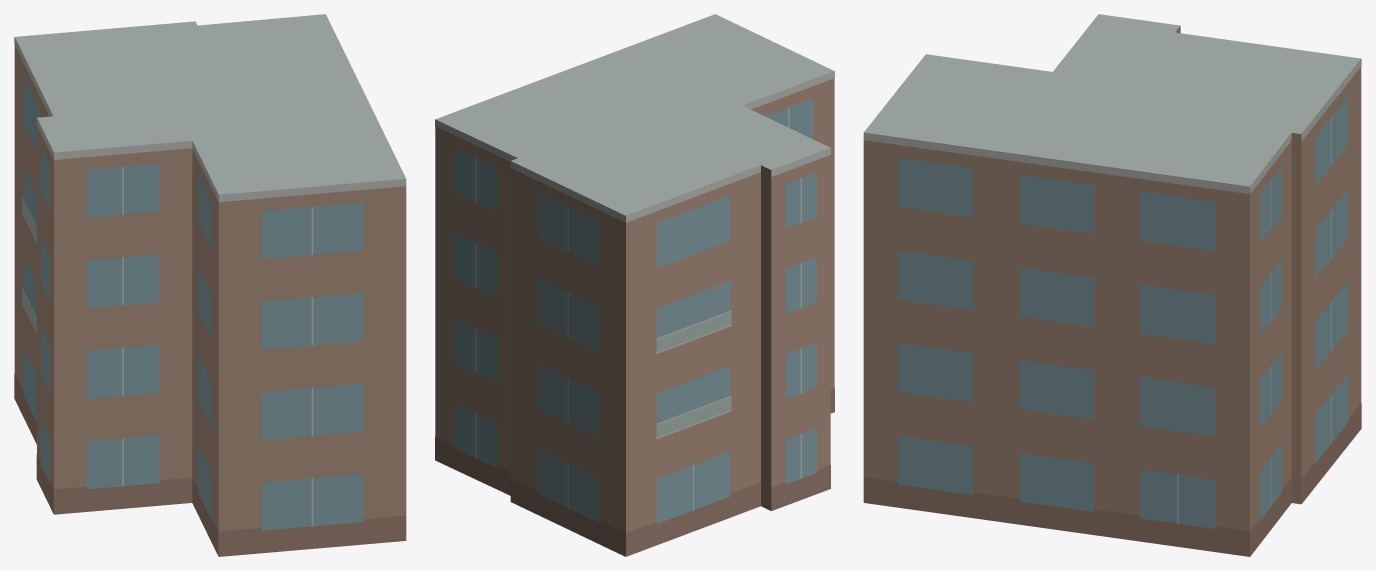
File: survey-upis-32592546.glb
The picture shows the model from 3 angles, left to right: view 1: azimuth 30°, elevation 25°; view 2: azimuth 150°, elevation 25°; view 3: azimuth 270°, elevation 25°; orthographic projection. The views are drawn at different scales.
Parts seen in each view (by area): view 1: survey-upis-32592546.tmp; view 2: survey-upis-32592546.tmp; view 3: survey-upis-32592546.tmp.
Boxes of the visible parts, <box> form: survey-upis-32592546.tmp: <box>14,14,406,556</box>; survey-upis-32592546.tmp: <box>435,14,834,556</box>; survey-upis-32592546.tmp: <box>863,14,1361,556</box>.
Size of the model in its own units: 11.91 by 11.9 by 14.51.
